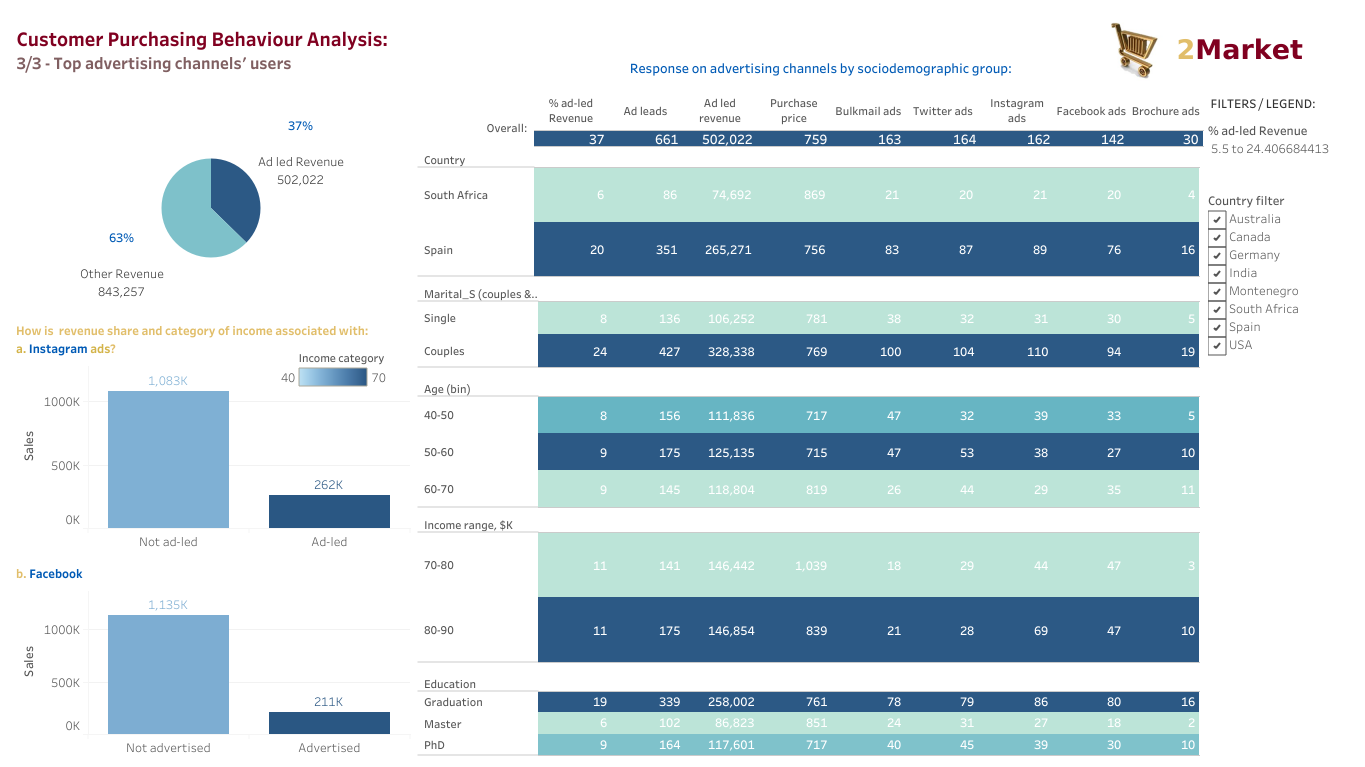

What the dashboard file says about the page in this screenshot:
{"tool":"tableau","page":{"name":"AdChan","canvas":[1366,768],"ordinal":0},"visuals":[{"type":"text","box":[8,8,542.1,81.8]},{"type":"text","box":[550.1,8,542.1,81.8]},{"type":"image","param":"Image/Picture1.jpg","box":[1092.2,8,78.3,81.8]},{"type":"text","box":[1170.5,8,187.5,81.8]},{"type":"worksheet","title":"AdRev","mark":"Pie","box":[8,89.8,406.2,221.4]},{"type":"text","box":[414.2,89.8,120,57]},{"type":"worksheet","title":"AdCh","mark":"Square","box":[534.2,89.8,669.8,57]},{"type":"text","box":[1204,89.8,154,29]},{"type":"filter","title":"AdCh_MarS","param":"[federated.19yn1fg1kaflrf10o91261t38a5l].[sum:Calculation_1982428285056880653:qk","box":[1204,118.8,154,73]},{"type":"worksheet","title":"AdCh_Cntr","mark":"Square","rows":["Country"],"box":[414.2,146.8,789.8,134.4]},{"type":"filter","title":"AdCh_Cntr","param":"[federated.19yn1fg1kaflrf10o91261t38a5l].[none:Country:nk]","box":[1204,191.9,154,243]},{"type":"worksheet","title":"AdCh_MarS","mark":"Square","box":[414.2,281.2,789.8,90.8]},{"type":"worksheet","title":"InstaAd","mark":"Bar","rows":["Sales"],"cols":["Instagram_ad"],"box":[8,311.3,406.2,242.7]},{"type":"legend","title":"InstaAd","param":"[federated.19yn1fg1kaflrf10o91261t38a5l].[avg:Income_New, $ (000'):qk]","box":[277,344,114,73]},{"type":"worksheet","title":"AdCh_Age","mark":"Square","rows":["Age (bin)"],"box":[414.2,372,789.8,139.6]},{"type":"worksheet","title":"AdCh_Inc","mark":"Square","rows":["Income $ (000') (bin)"],"box":[414.2,511.5,789.8,155]},{"type":"worksheet","title":"FacebAd","mark":"Bar","rows":["Sales"],"cols":["Facebook_ad"],"box":[8,554,406.2,206]},{"type":"worksheet","title":"AdCh_Ed","mark":"Square","rows":["Education"],"box":[414.2,666.5,789.8,93.5]}]}

Visuals, with their boxes in screenshot pixels (x1, y1, x2, y2), scaled from the page's 1366x768 canvas onto the 1365x767 screenshot:
text: 8, 8, 550, 90
text: 550, 8, 1091, 90
image: 1091, 8, 1170, 90
text: 1170, 8, 1357, 90
"AdRev" worksheet (Pie marks): 8, 90, 414, 311
text: 414, 90, 534, 147
"AdCh" worksheet (Square marks): 534, 90, 1203, 147
text: 1203, 90, 1357, 119
"AdCh_MarS" filter: 1203, 119, 1357, 192
"AdCh_Cntr" worksheet (Square marks): 414, 147, 1203, 281
"AdCh_Cntr" filter: 1203, 192, 1357, 434
"AdCh_MarS" worksheet (Square marks): 414, 281, 1203, 372
"InstaAd" worksheet (Bar marks): 8, 311, 414, 553
"InstaAd" legend: 277, 344, 391, 416
"AdCh_Age" worksheet (Square marks): 414, 372, 1203, 511
"AdCh_Inc" worksheet (Square marks): 414, 511, 1203, 666
"FacebAd" worksheet (Bar marks): 8, 553, 414, 759
"AdCh_Ed" worksheet (Square marks): 414, 666, 1203, 759
